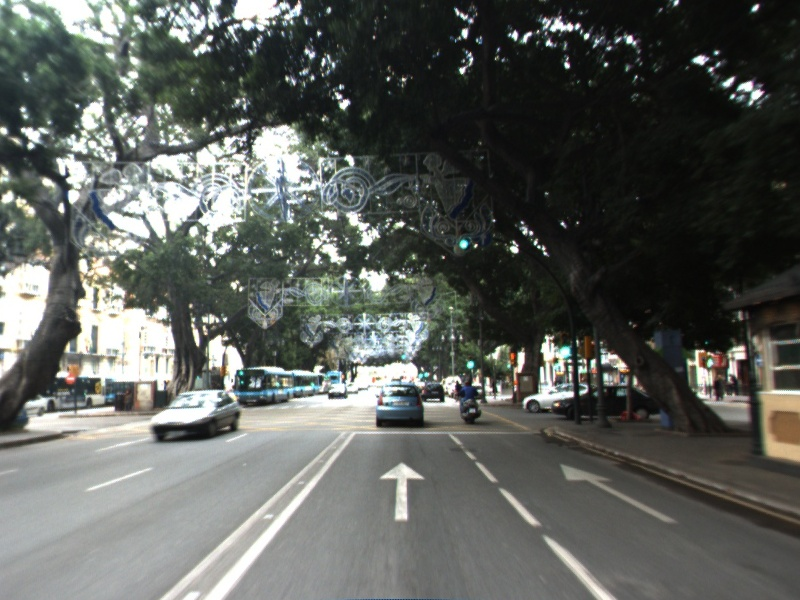STRAIGHT: (558, 462, 681, 526), (377, 460, 427, 524)
